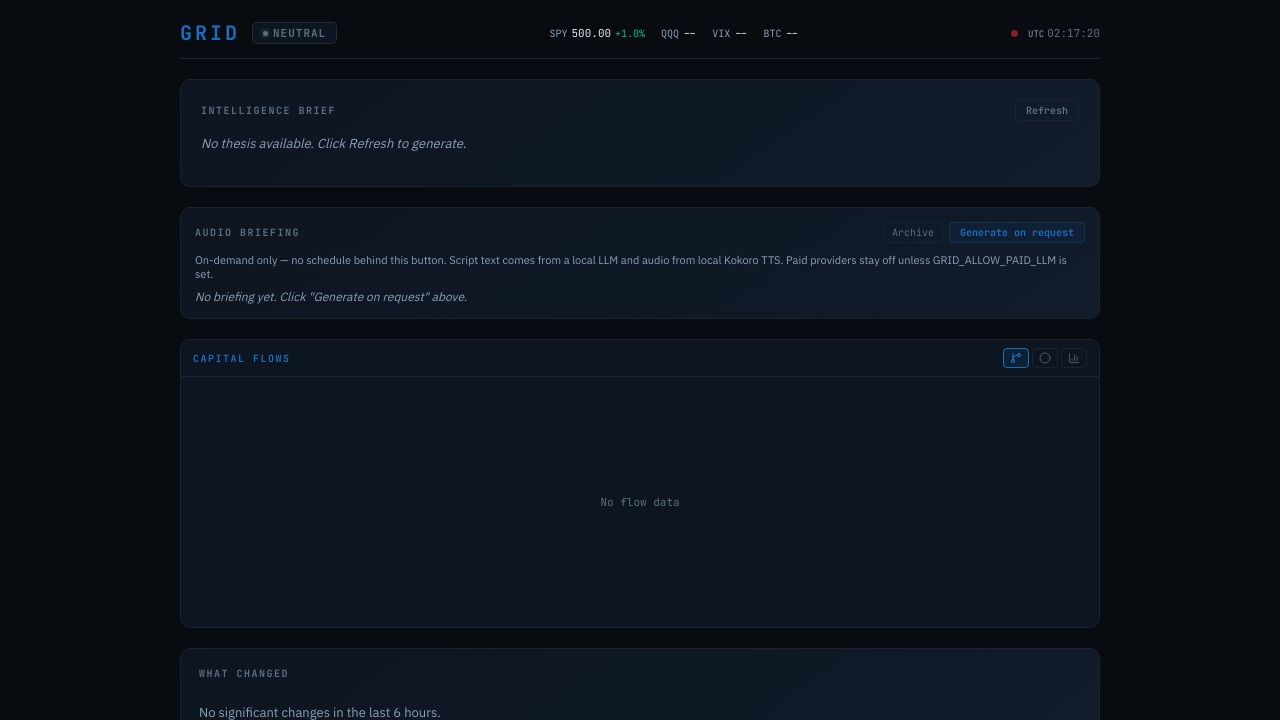
Test: Dashboard watchlist loading › renders a text-only on-demand briefing when no audio was made (paid TTS disabled)
Step 1. Click the button "Generate on request" → (1017, 232), box [949, 222, 1085, 243]
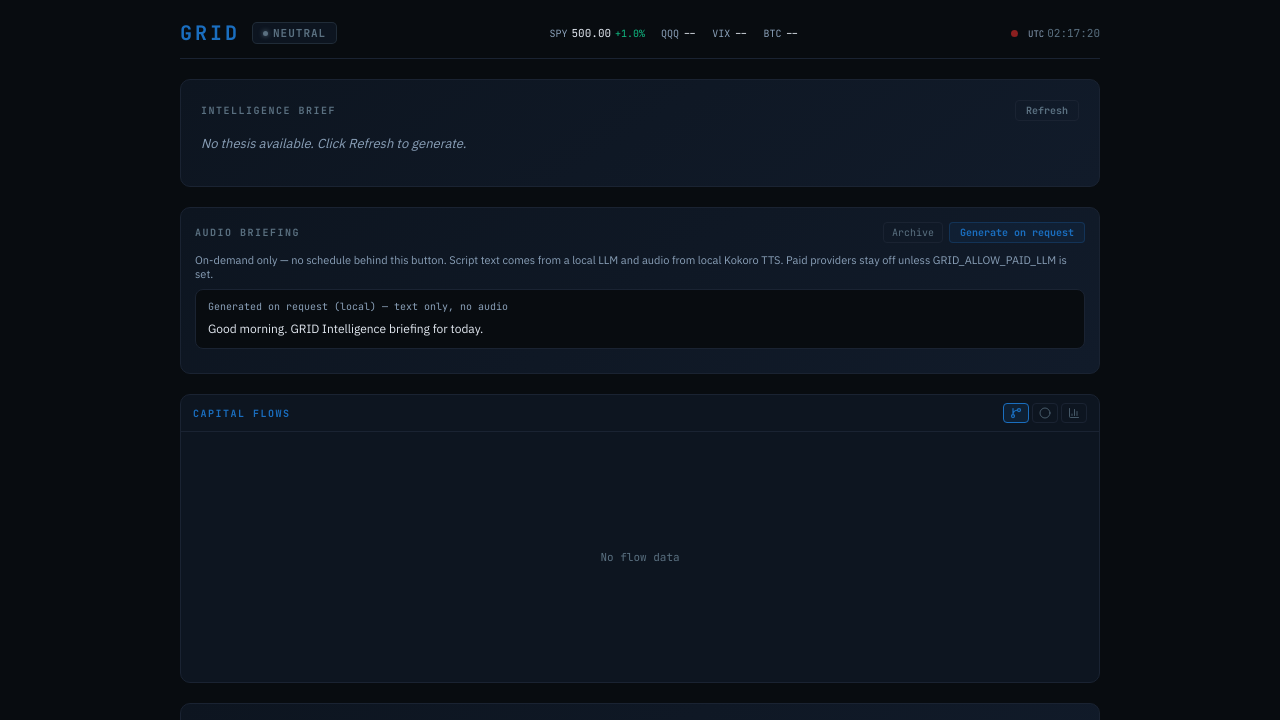
Check: the element with test id "text-briefing" is shown, box [195, 289, 1085, 349]
Check: the text "Good morning. GRID Intelligence briefing for today." is shown, box [208, 321, 483, 336]
Check: the text "Generated on request (local) — text only, no audio" is shown, box [208, 300, 508, 313]
